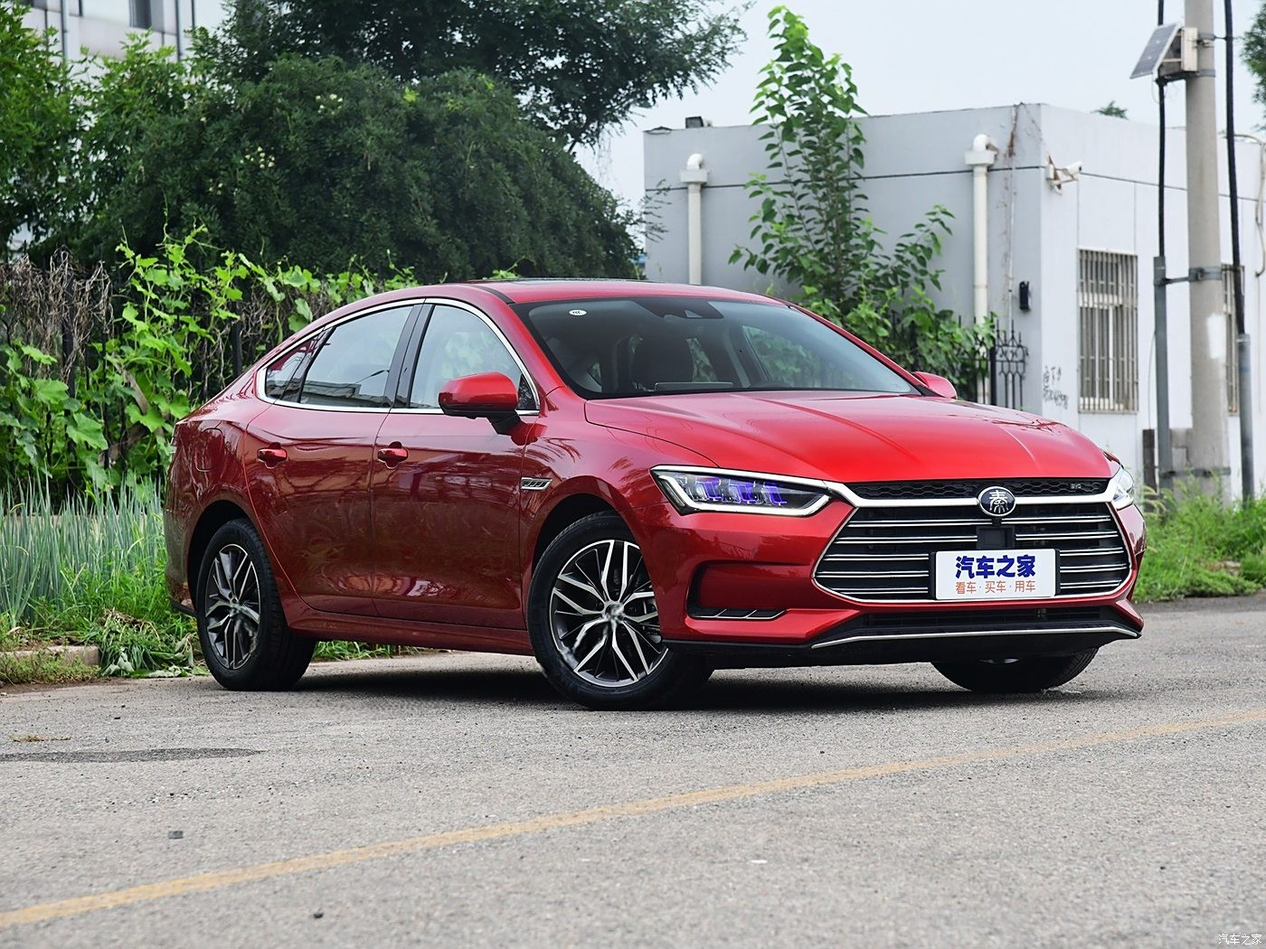BYD Qin: (978, 487, 1016, 516)
